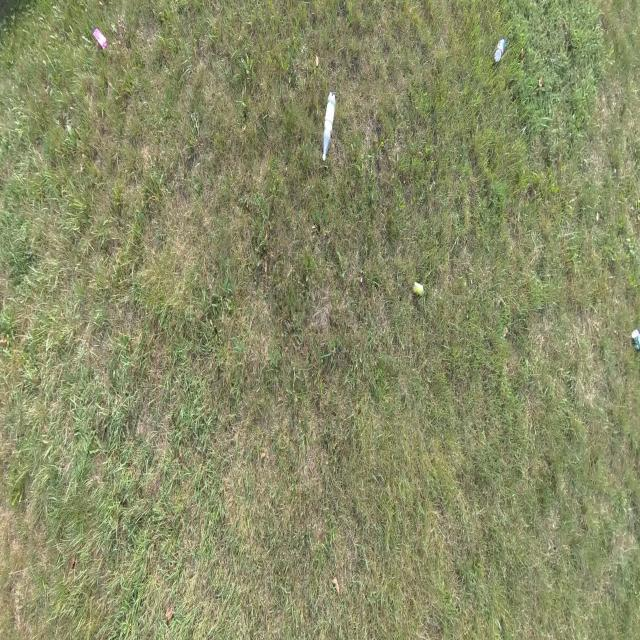rubbish: (321, 90, 338, 162), (90, 24, 107, 51), (493, 38, 506, 62), (629, 324, 639, 347), (412, 280, 424, 298)
